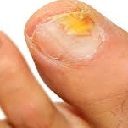Nail Fungal Infection: (49, 8, 103, 42)
